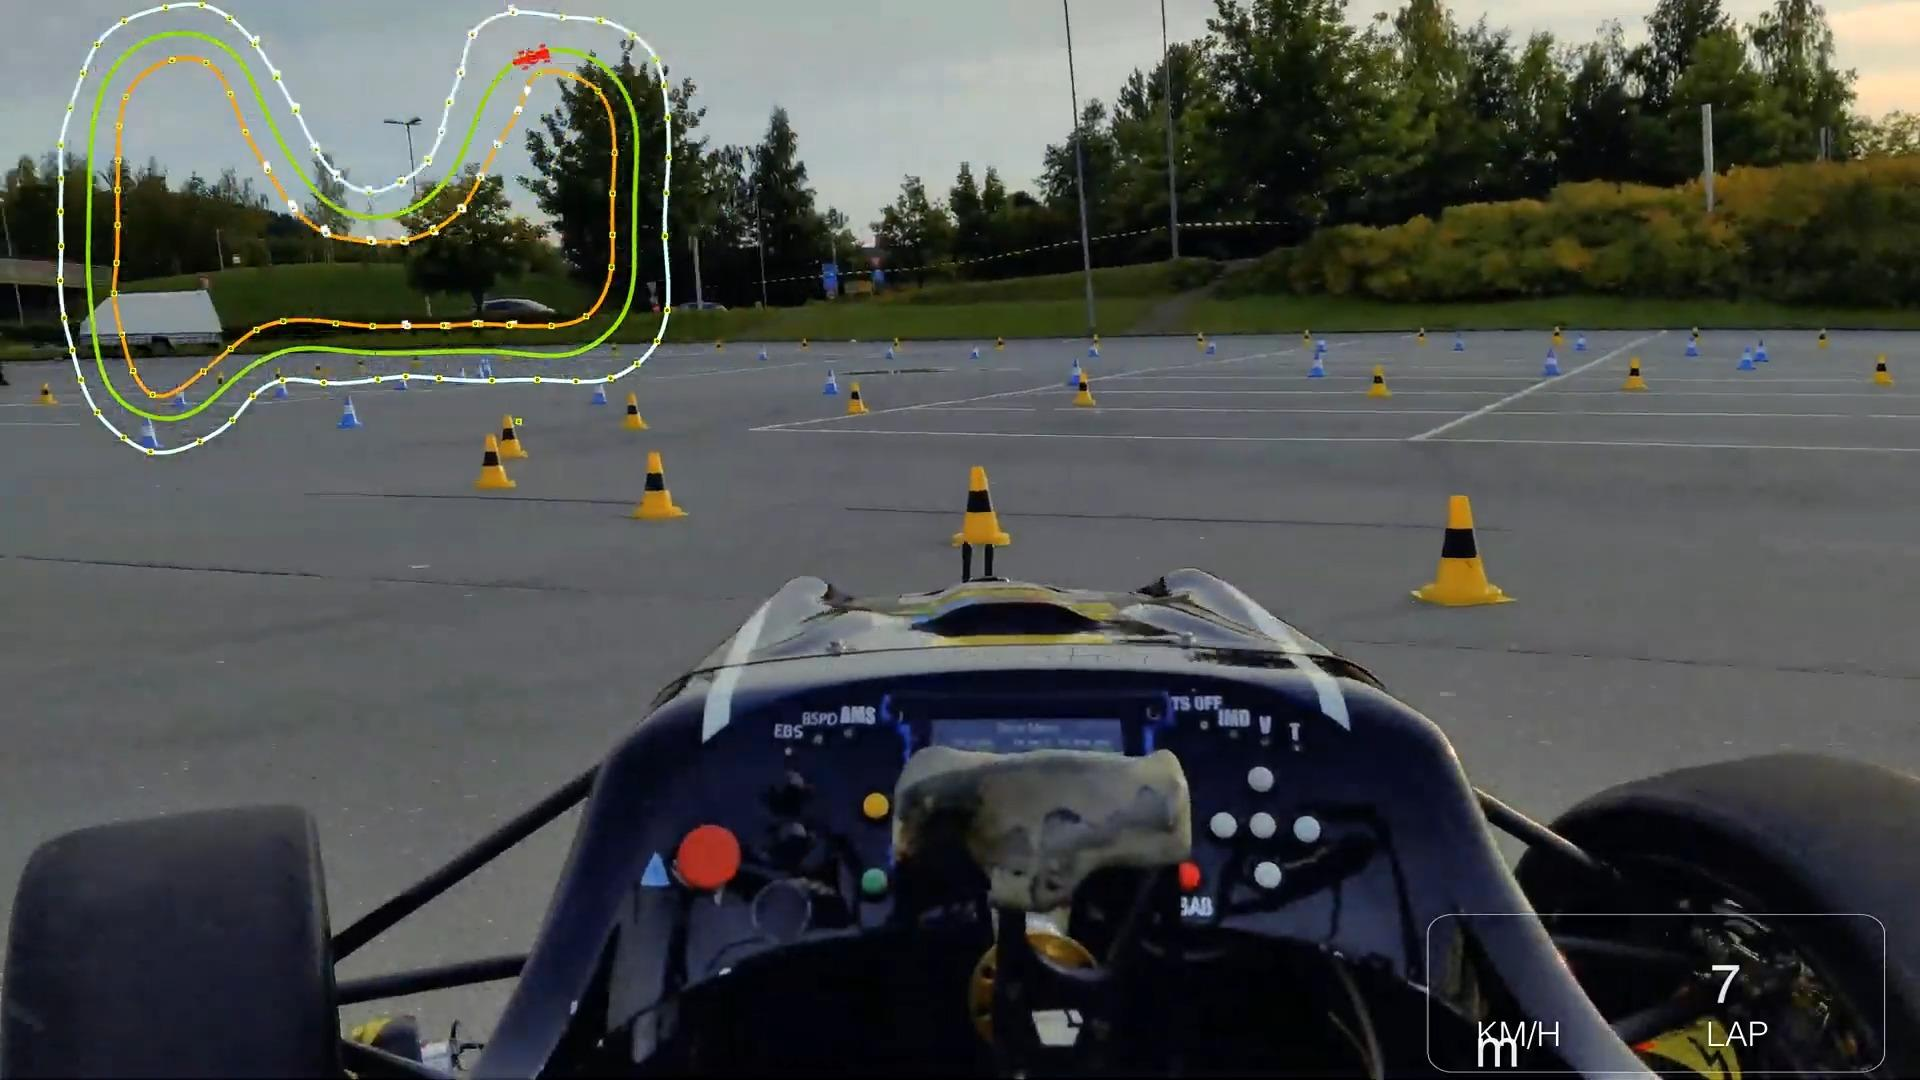yellow_cone: (1422, 492, 1507, 621), (935, 467, 1021, 556), (621, 448, 698, 535), (460, 423, 526, 497), (841, 378, 886, 425), (1063, 363, 1108, 406), (1611, 356, 1651, 392), (1364, 355, 1387, 398), (628, 386, 647, 430)
